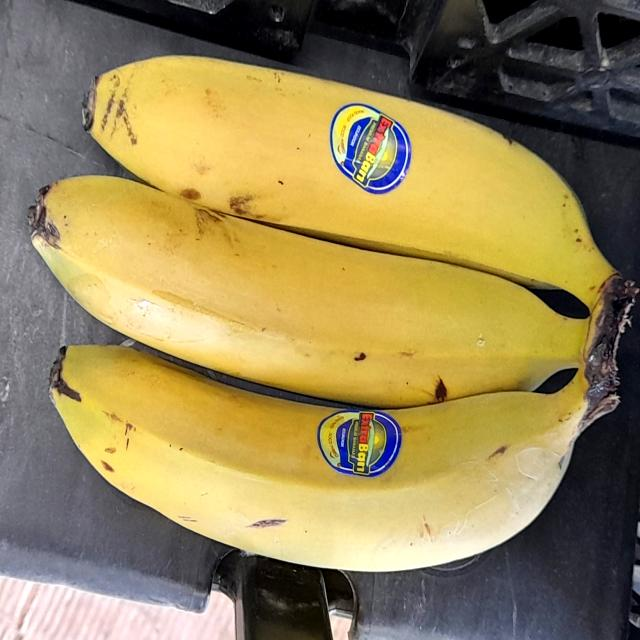banana: (30, 29, 640, 576), (77, 36, 640, 316)
